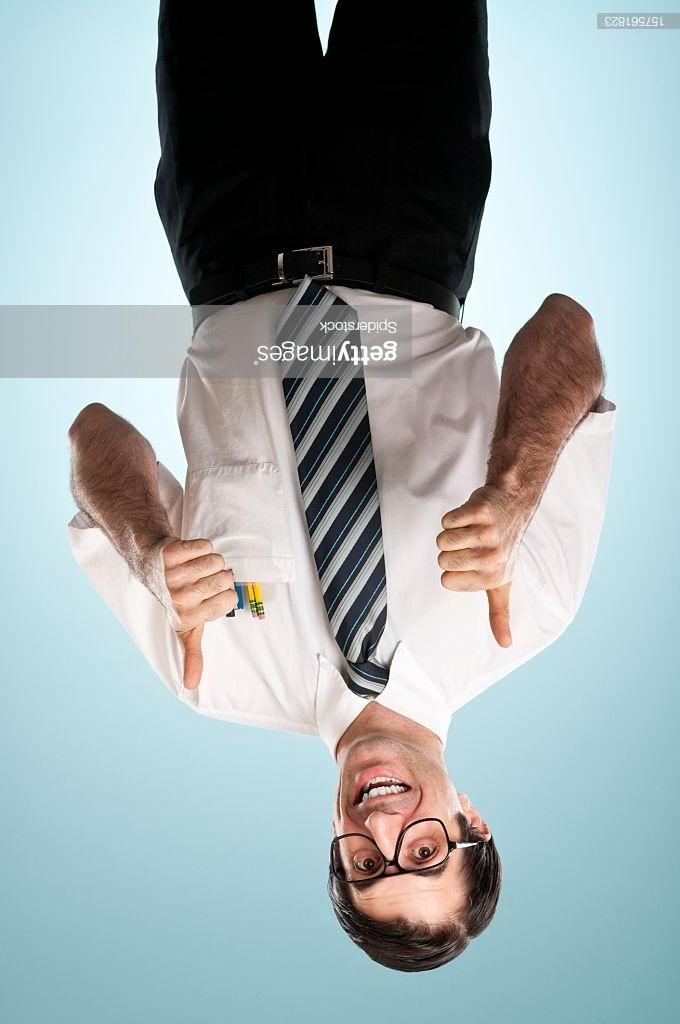thumbsdown: (161, 537, 240, 691), (436, 502, 516, 650)
